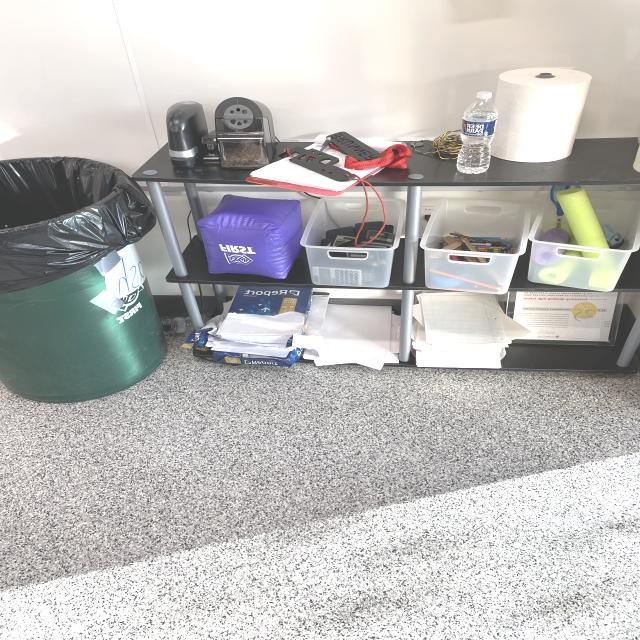frc_cube: (176, 186, 321, 290)
